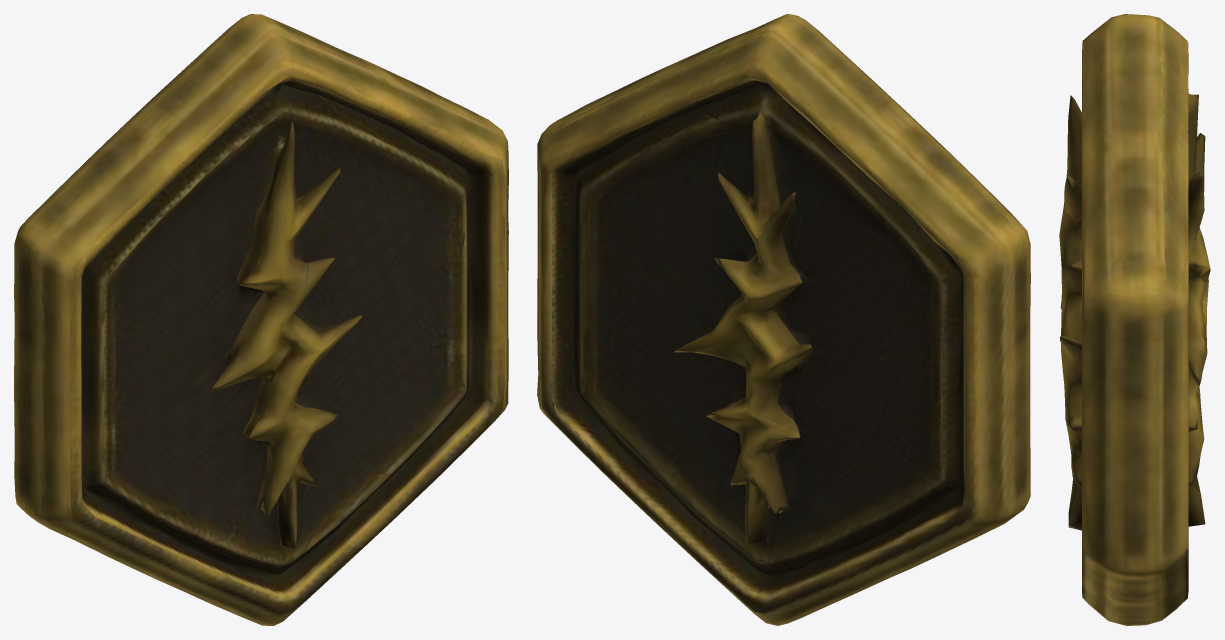
The model's file is fs_volt_rune.glb.
3 views of the same model, side by side, from view 1: azimuth 30°, elevation 25°; view 2: azimuth 150°, elevation 25°; view 3: azimuth 270°, elevation 25° (orthographic).
Parts seen in each view (by area): view 1: geometry_0; view 2: geometry_0; view 3: geometry_0.
Boxes of the visible parts, x1,y1,x2,y2 form: geometry_0: (14,14,508,625); geometry_0: (537,14,1030,625); geometry_0: (1059,14,1210,625).
Size of the model in its own units: 0.8284 by 1 by 0.226.
Materials: 1 (1 with a texture image).
